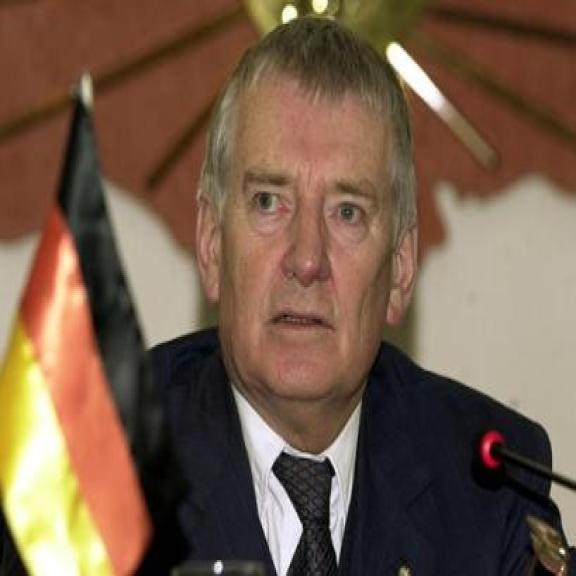face: (191, 83, 423, 404)
